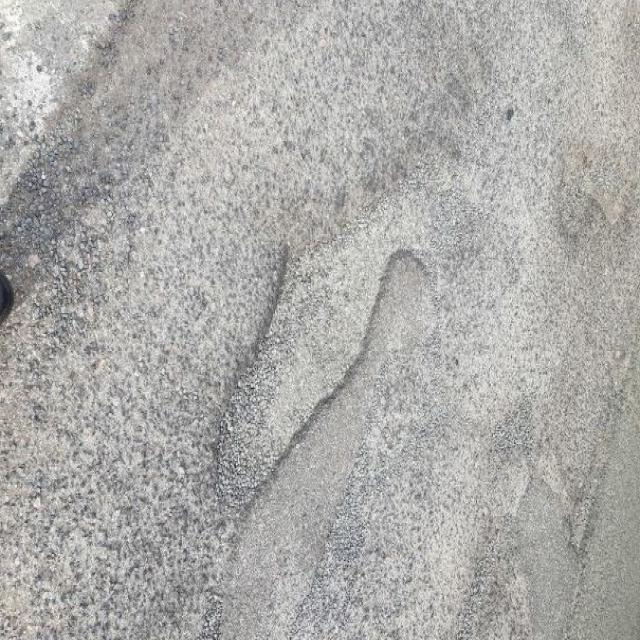pothole: (202, 180, 439, 522)
